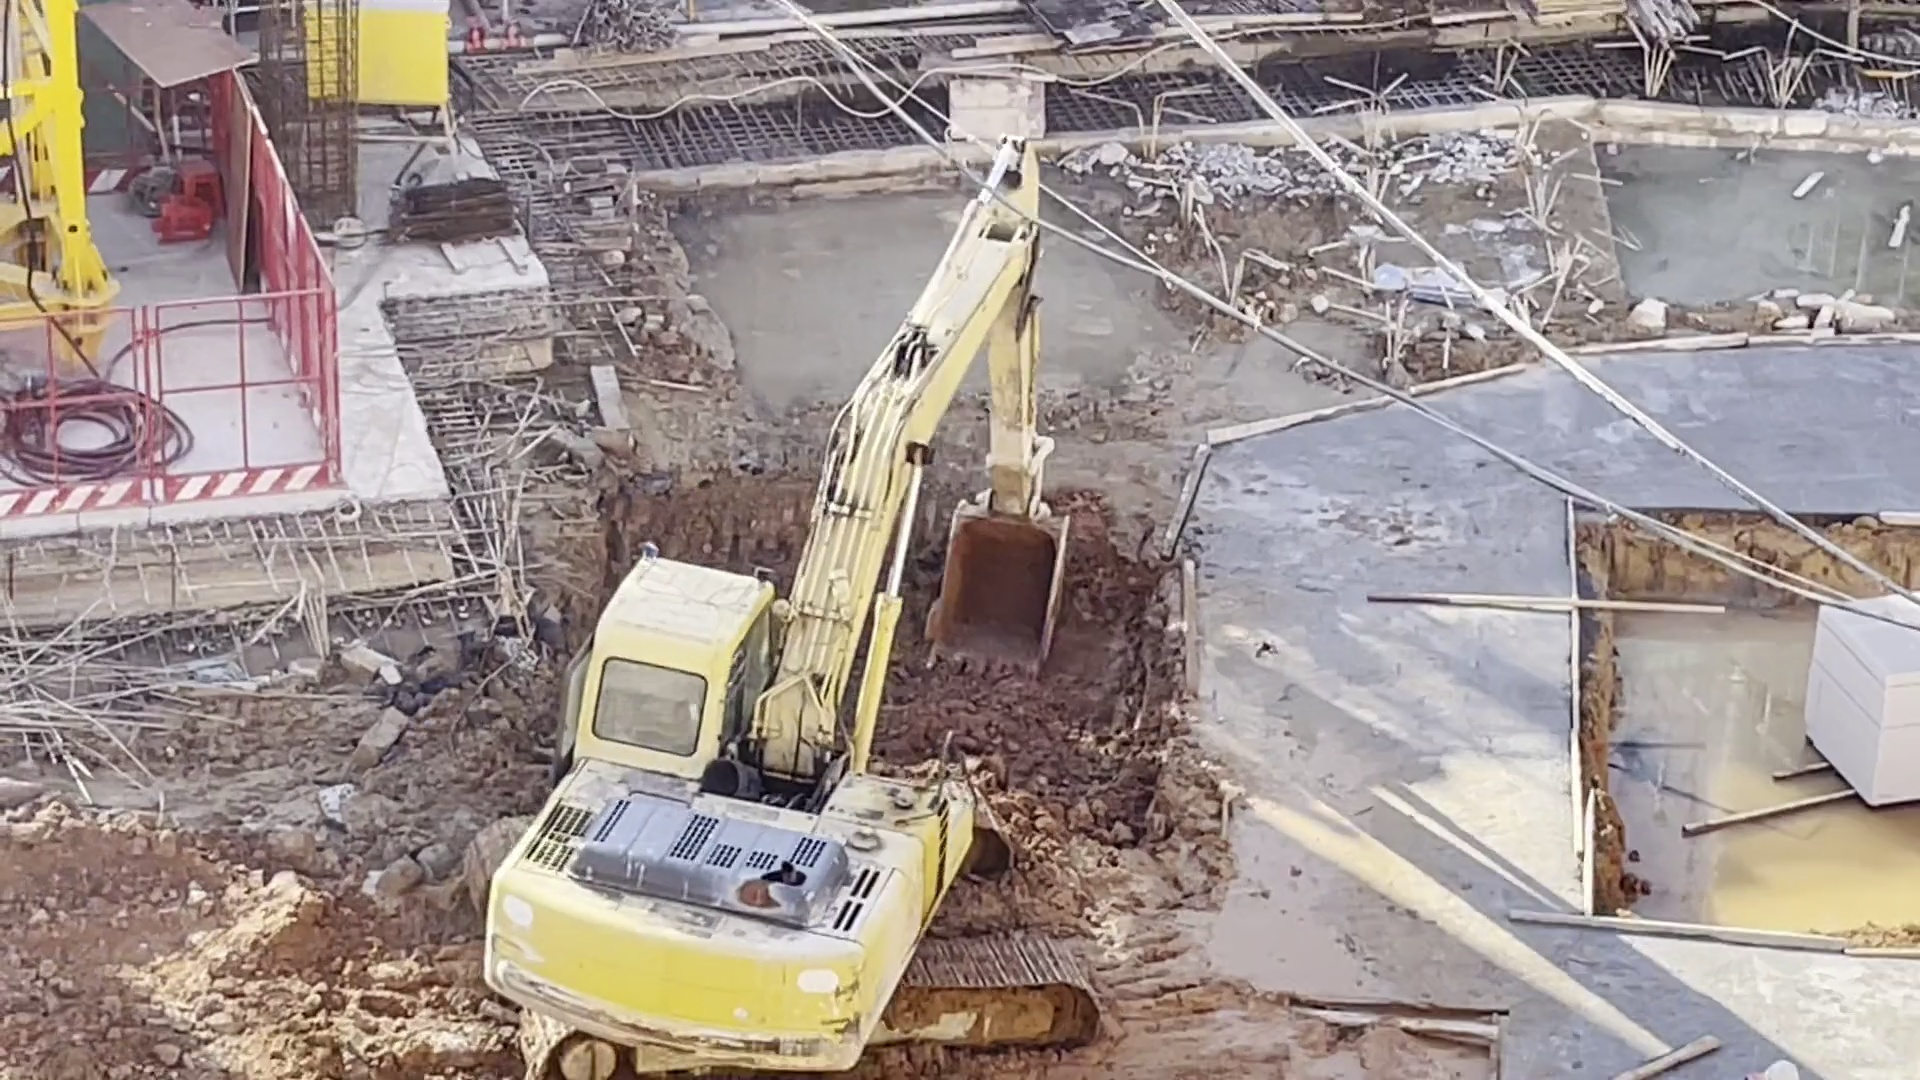brick: (1797, 618, 1920, 814)
ebox: (355, 4, 469, 174)
fence: (21, 287, 326, 508), (252, 146, 342, 477)
helmet: (1767, 1054, 1807, 1080)
